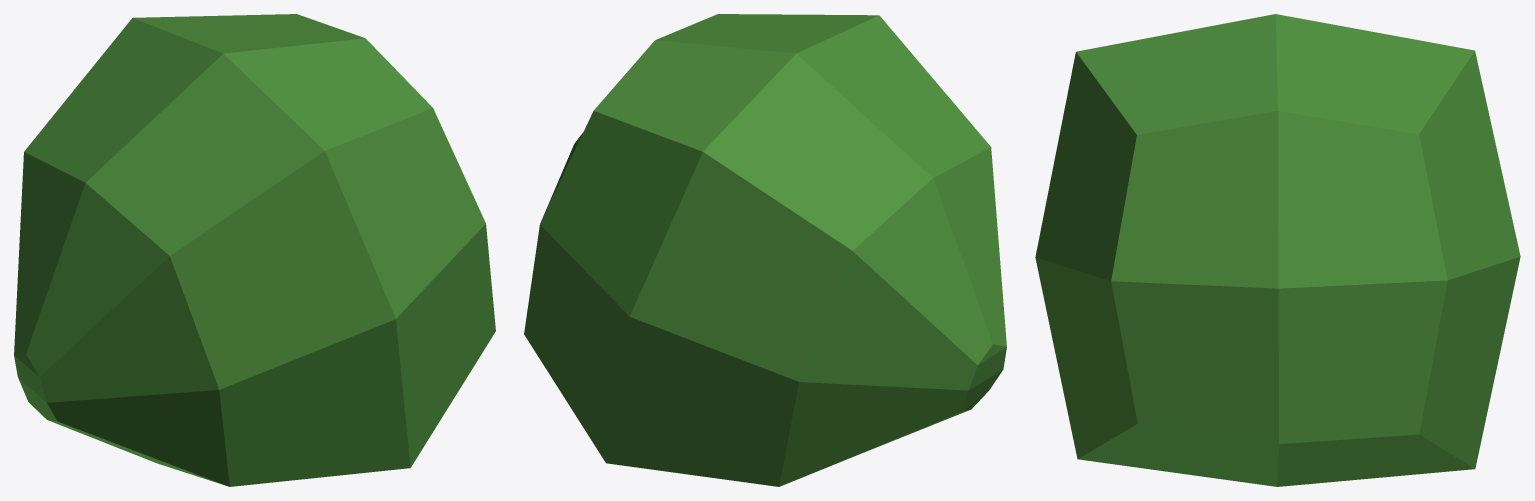
Rendered from keyLime.fbx.
3 renders of one model, left to right at view 1: azimuth 30°, elevation 25°; view 2: azimuth 150°, elevation 25°; view 3: azimuth 270°, elevation 25°, orthographic. The views are drawn at different scales.
Visible parts, largest first — view 1: keyLime; view 2: keyLime; view 3: keyLime.
Boxes of the visible parts, box(x1,y1,x2,y2) form: keyLime: box(14, 14, 495, 486); keyLime: box(524, 14, 1006, 486); keyLime: box(1035, 14, 1520, 486).
Size of the model in its own units: 5.97 by 5.27 by 5.51.
Materials: 1 (1 with a texture image).
